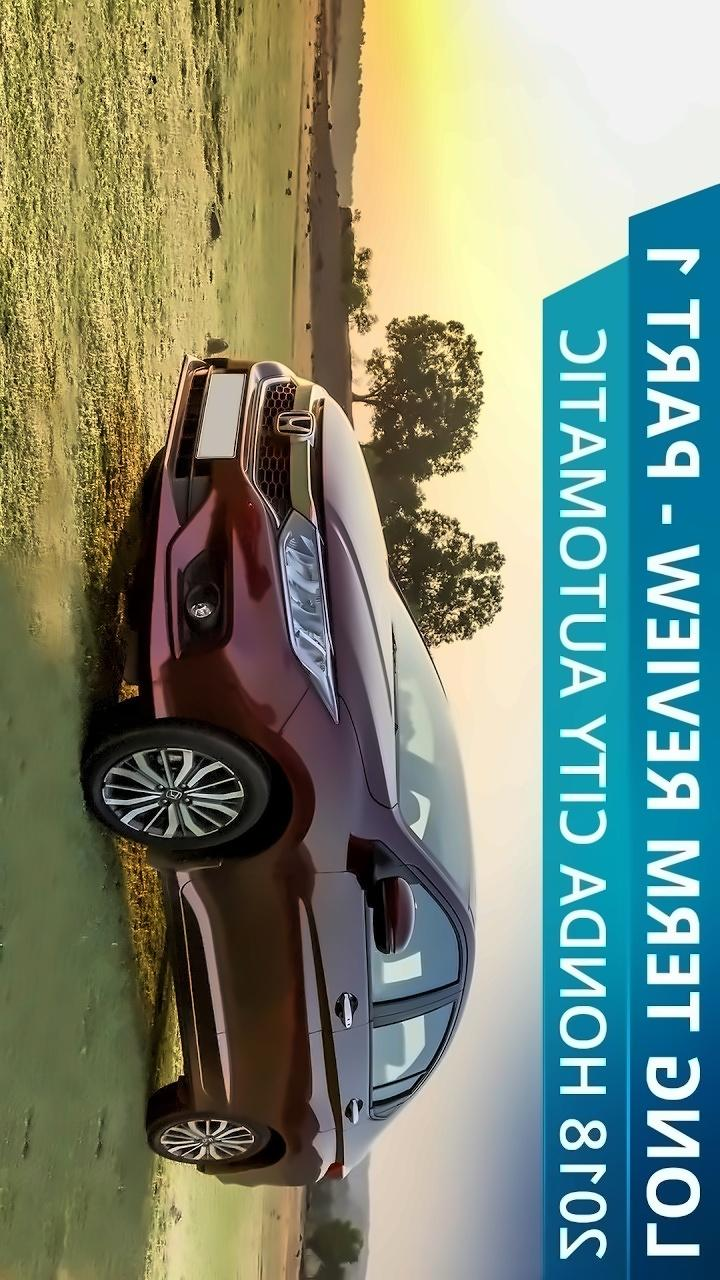Car hood: (315, 389, 408, 811)
Fender - -F-L-: (159, 681, 414, 882)
Fender - -R-L-: (199, 1109, 364, 1166)
Front bumper: (140, 337, 288, 743)
Headlight - -L-: (269, 500, 353, 728)
Passenger-s door - -F-L-: (177, 865, 474, 1033)
Passenger-s door - -R-L-: (194, 1029, 455, 1134)
Rear bumper: (182, 1152, 294, 1202)
Rear light - -L-: (305, 1152, 367, 1189)
Side bumper - -L-: (162, 854, 220, 1128)
Side mirror - -L-: (365, 862, 429, 960)
